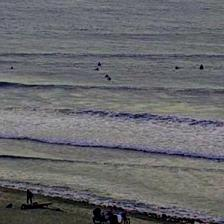surfer: (199, 64, 204, 70), (105, 74, 109, 78), (175, 66, 179, 70), (98, 61, 101, 66), (94, 68, 100, 70), (107, 77, 111, 80), (10, 66, 13, 69)
